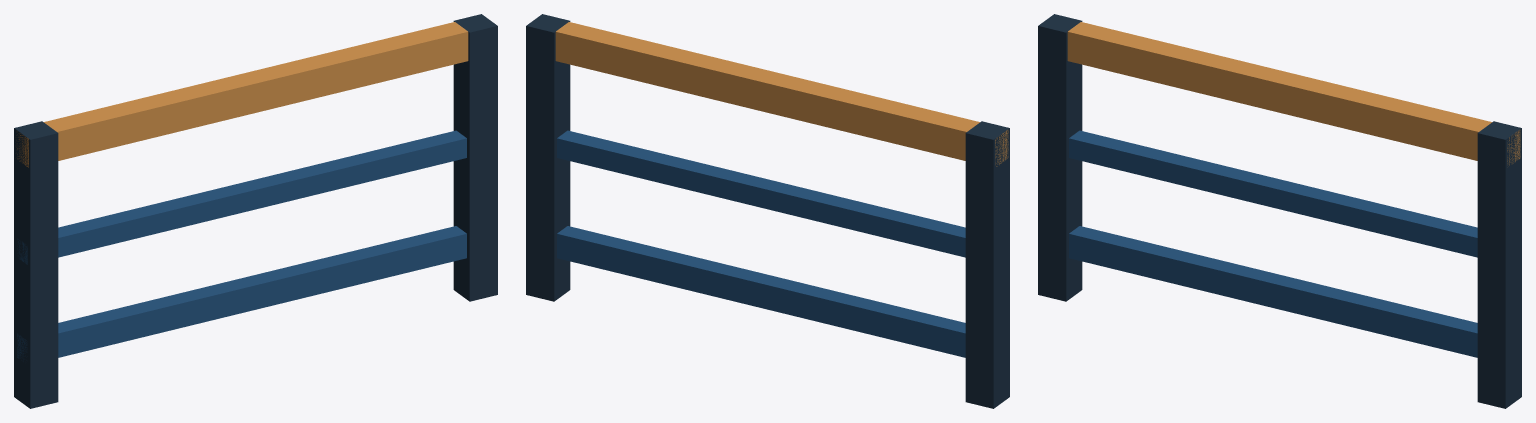
The model's file is railing.glb.
3 views of the same model, side by side, from view 1: azimuth 30°, elevation 25°; view 2: azimuth 150°, elevation 25°; view 3: azimuth 330°, elevation 25° (orthographic).
Parts seen in each view (by area): view 1: Shared_railing; view 2: Shared_railing; view 3: Shared_railing.
Part boxes in pixels (<box>): Shared_railing: <box>14,14,497,408</box>; Shared_railing: <box>526,14,1009,408</box>; Shared_railing: <box>1038,14,1521,408</box>.
Size of the model in its own units: 2 by 1.1 by 0.12.
